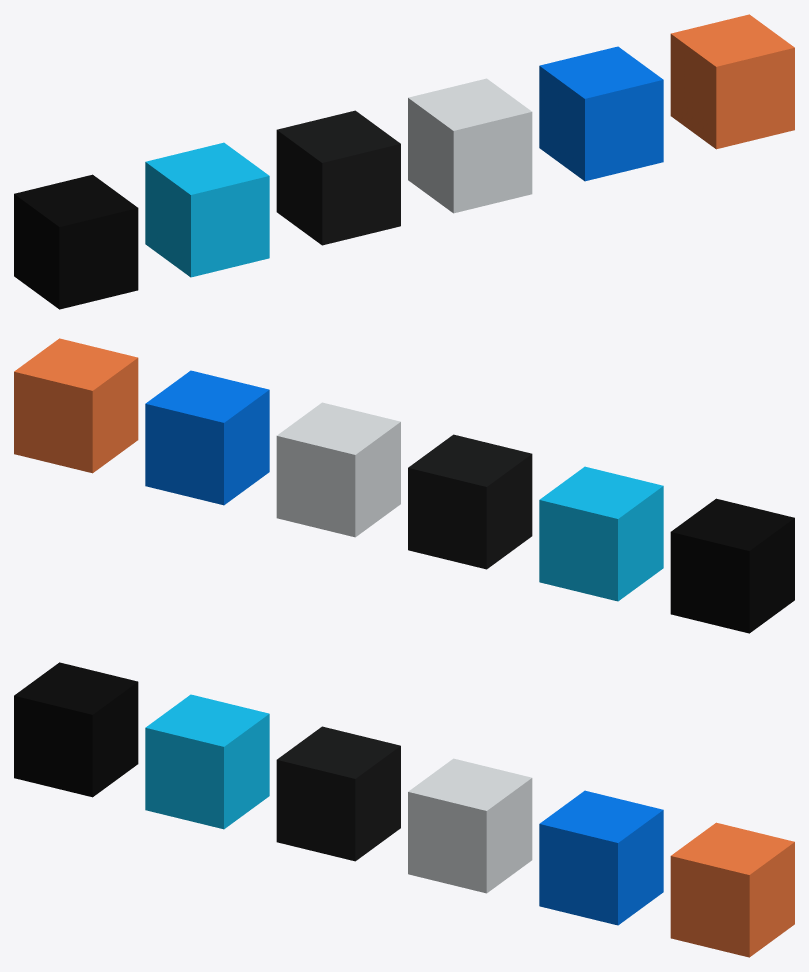
Rendered from tool_roll_link_mtl.dae.
3 renders of one model, top to bottom at view 1: azimuth 30°, elevation 25°; view 2: azimuth 150°, elevation 25°; view 3: azimuth 330°, elevation 25°, orthographic.
Parts seen in each view (by area): view 1: node_1260f479_2883_4e7e_8045_3e6ed16ea931_mesh0, node_08a754d7_1bf3_4046_baf1_d6f44d0816dc_mesh0, node_50619944_6f3a_4ef2_89cb_13927923dabf_mesh0, node_e6403818_6edb_47c2_b038_77a1ab0b6a96_mesh0, node_b7a58073_d6b0_4f2a_bde1_da2f12be09d2_mesh0, node_f71b989c_b164_4b73_b214_507f813759a7_mesh0; view 2: node_1260f479_2883_4e7e_8045_3e6ed16ea931_mesh0, node_08a754d7_1bf3_4046_baf1_d6f44d0816dc_mesh0, node_50619944_6f3a_4ef2_89cb_13927923dabf_mesh0, node_e6403818_6edb_47c2_b038_77a1ab0b6a96_mesh0, node_b7a58073_d6b0_4f2a_bde1_da2f12be09d2_mesh0, node_f71b989c_b164_4b73_b214_507f813759a7_mesh0; view 3: node_1260f479_2883_4e7e_8045_3e6ed16ea931_mesh0, node_08a754d7_1bf3_4046_baf1_d6f44d0816dc_mesh0, node_50619944_6f3a_4ef2_89cb_13927923dabf_mesh0, node_e6403818_6edb_47c2_b038_77a1ab0b6a96_mesh0, node_b7a58073_d6b0_4f2a_bde1_da2f12be09d2_mesh0, node_f71b989c_b164_4b73_b214_507f813759a7_mesh0.
Part boxes in pixels (x1,y1,x2,y2): node_1260f479_2883_4e7e_8045_3e6ed16ea931_mesh0: [145, 142, 269, 277]; node_08a754d7_1bf3_4046_baf1_d6f44d0816dc_mesh0: [539, 46, 663, 181]; node_50619944_6f3a_4ef2_89cb_13927923dabf_mesh0: [14, 174, 138, 309]; node_e6403818_6edb_47c2_b038_77a1ab0b6a96_mesh0: [276, 110, 400, 245]; node_b7a58073_d6b0_4f2a_bde1_da2f12be09d2_mesh0: [408, 78, 532, 213]; node_f71b989c_b164_4b73_b214_507f813759a7_mesh0: [670, 14, 794, 149]; node_1260f479_2883_4e7e_8045_3e6ed16ea931_mesh0: [539, 466, 663, 601]; node_08a754d7_1bf3_4046_baf1_d6f44d0816dc_mesh0: [145, 370, 269, 505]; node_50619944_6f3a_4ef2_89cb_13927923dabf_mesh0: [670, 498, 794, 633]; node_e6403818_6edb_47c2_b038_77a1ab0b6a96_mesh0: [408, 434, 532, 569]; node_b7a58073_d6b0_4f2a_bde1_da2f12be09d2_mesh0: [276, 402, 400, 537]; node_f71b989c_b164_4b73_b214_507f813759a7_mesh0: [14, 338, 138, 473]; node_1260f479_2883_4e7e_8045_3e6ed16ea931_mesh0: [145, 694, 269, 829]; node_08a754d7_1bf3_4046_baf1_d6f44d0816dc_mesh0: [539, 790, 663, 925]; node_50619944_6f3a_4ef2_89cb_13927923dabf_mesh0: [14, 662, 138, 797]; node_e6403818_6edb_47c2_b038_77a1ab0b6a96_mesh0: [276, 726, 400, 861]; node_b7a58073_d6b0_4f2a_bde1_da2f12be09d2_mesh0: [408, 758, 532, 893]; node_f71b989c_b164_4b73_b214_507f813759a7_mesh0: [670, 822, 794, 957].
Bounding box in the file's own units: 56 × 6 × 6.
